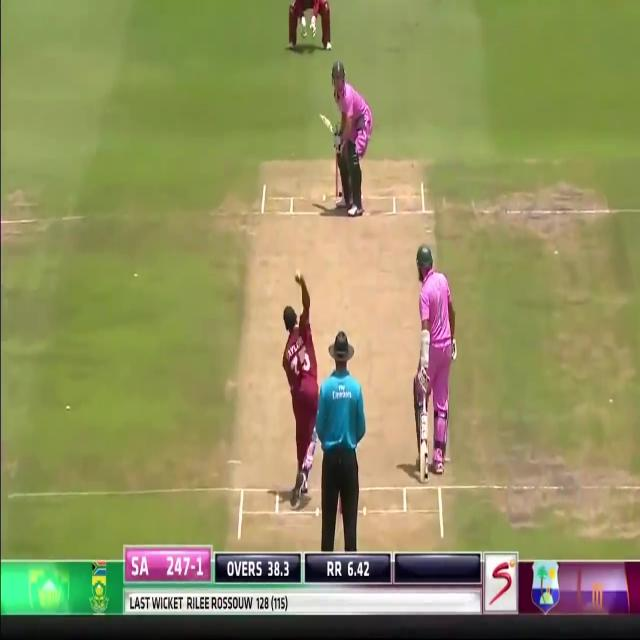Ball: (415, 248, 457, 478), (330, 61, 373, 215)
Fielder: (281, 272, 321, 508), (286, 0, 333, 50)
Umpire: (317, 337, 364, 547)
